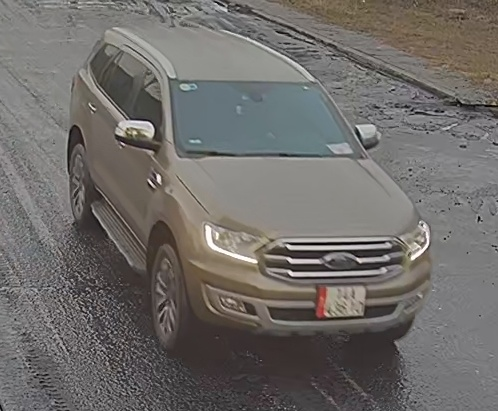vehicle plate: (312, 281, 371, 316)
